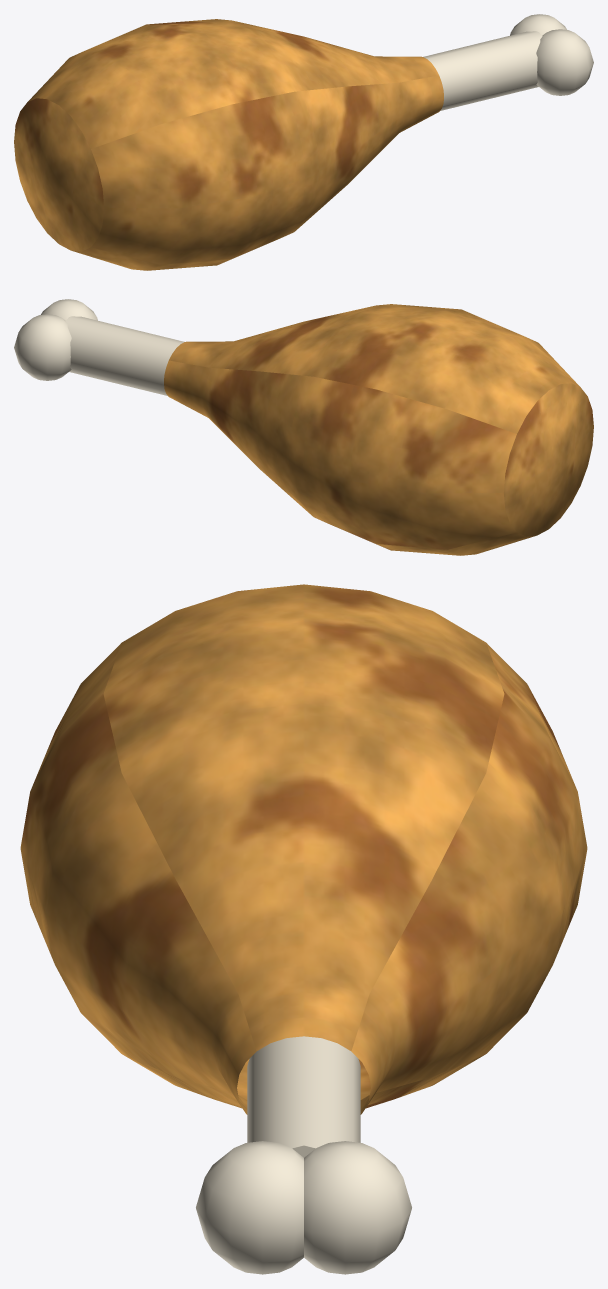
The model's file is DrumstickCooked.glb.
3 renders of one model, top to bottom at view 1: azimuth 30°, elevation 25°; view 2: azimuth 150°, elevation 25°; view 3: azimuth 270°, elevation 25°, orthographic. The views are drawn at different scales.
Parts seen in each view (by area): view 1: DrumstickCooked_Body; view 2: DrumstickCooked_Body; view 3: DrumstickCooked_Body.
Boxes of the visible parts, left/top/right/bottom form: DrumstickCooked_Body: left=14, top=14, right=593, bottom=270; DrumstickCooked_Body: left=14, top=299, right=593, bottom=555; DrumstickCooked_Body: left=20, top=584, right=587, bottom=1274.
Size of the model in its own units: 0.238 by 0.0935 by 0.11.
Materials: 2 (1 with a texture image).
